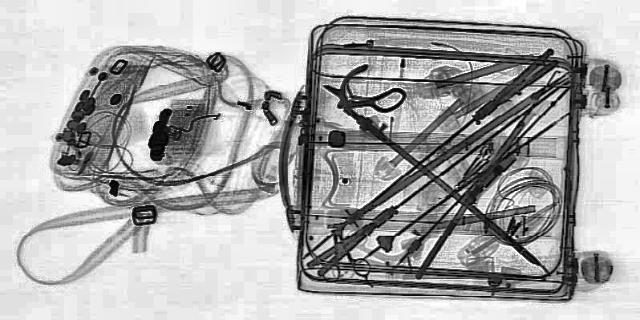Pliers: (463, 46, 571, 122)
Scissors: (308, 226, 374, 280)
